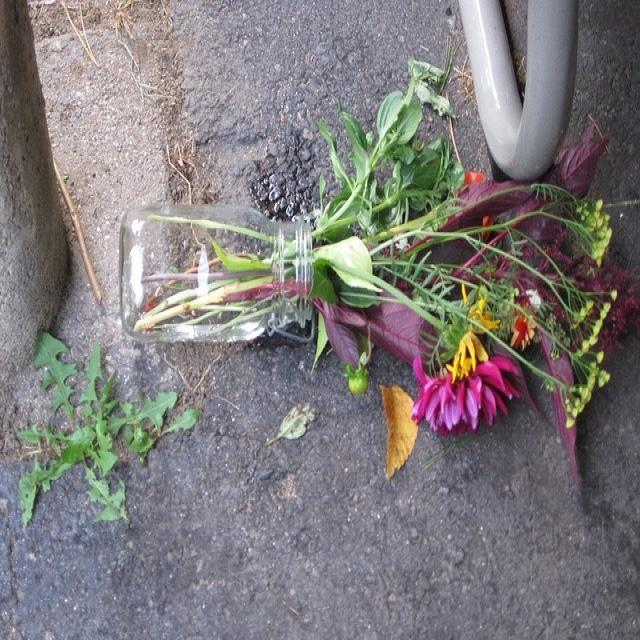Glass: (106, 176, 322, 377)
